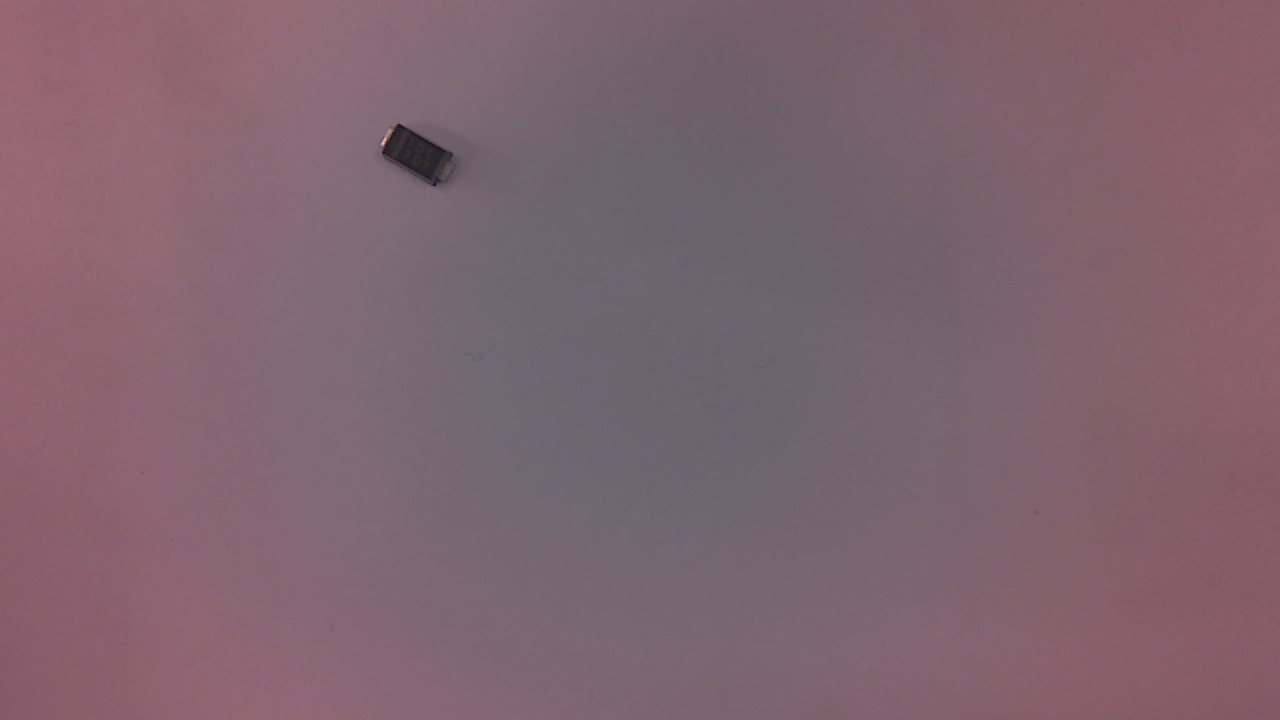Diode: (381, 127, 464, 193)
